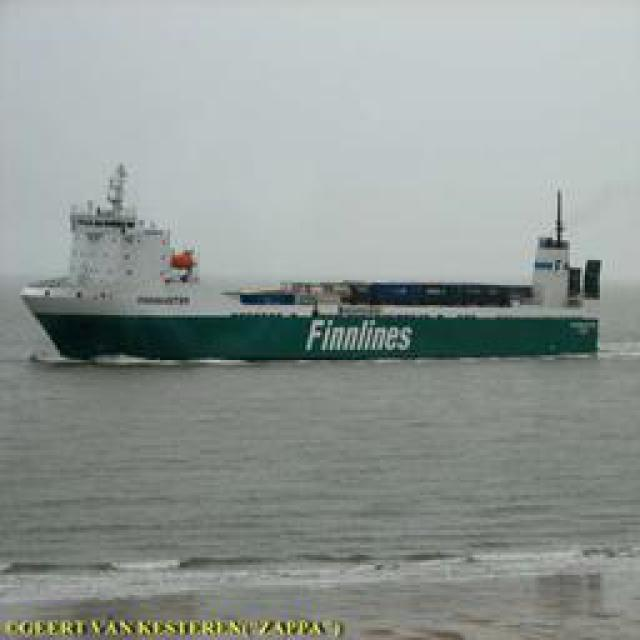Ship: (22, 160, 595, 365)
